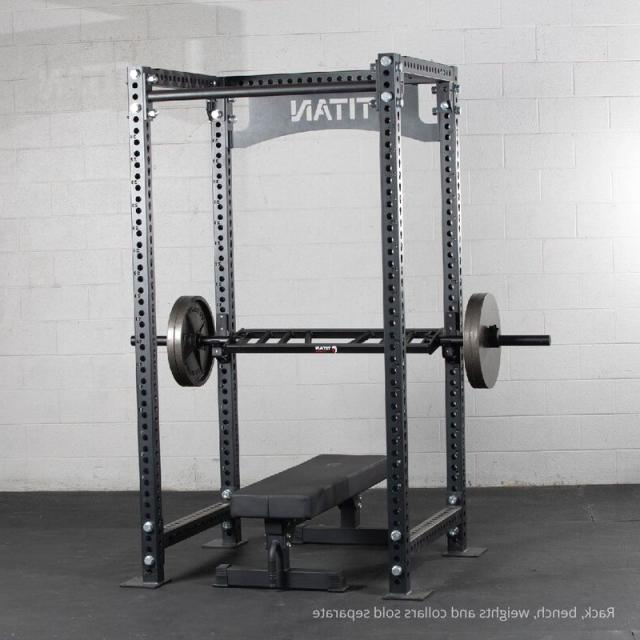barbell_plate_side: (143, 291, 245, 389), (449, 291, 551, 389)
